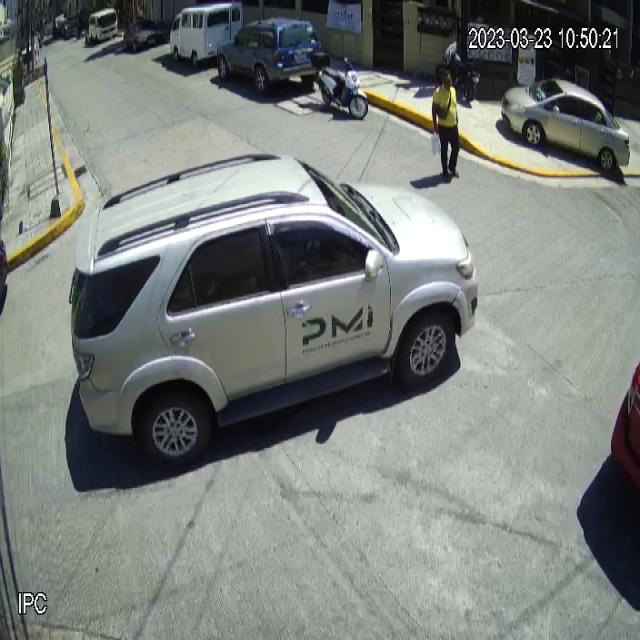Car: (68, 151, 480, 471), (501, 76, 631, 171), (219, 15, 325, 94)
Motorcycle: (312, 48, 369, 120)
Van: (170, 1, 245, 67)
